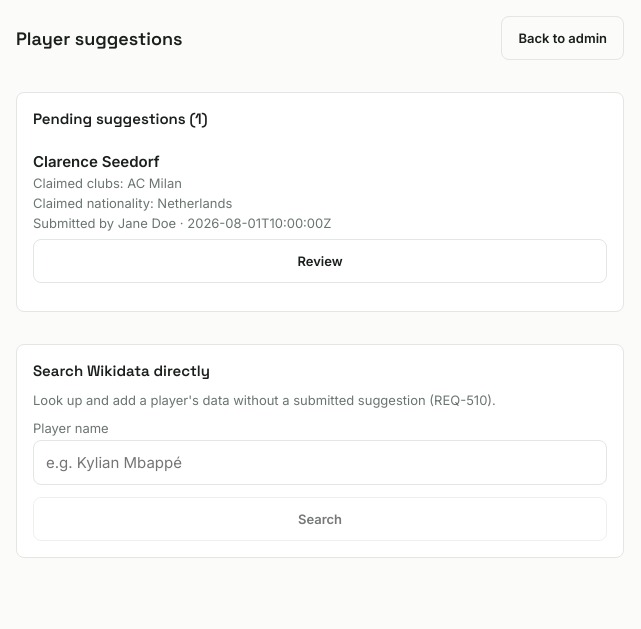
Test: SuggestionsScreen › REQ509: a 409 from lookup (already resolved) surfaces distinctly, with a refresh path back to the pending list
The image size is (641, 629).
Check: the text "Clarence Seedorf" is shown, box 33,152 -> 160,171
Click the button "Review". click: [320, 261]
box: 33,239 -> 607,283
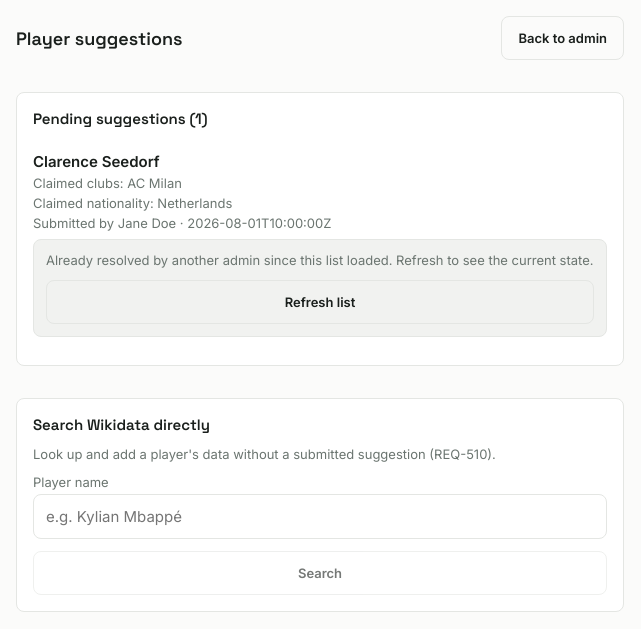
Check: the text "Already resolved by another admin" is shown, box 46,252 -> 594,268
Click the button "Refresh list". click: [320, 302]
box: 46,280 -> 594,324
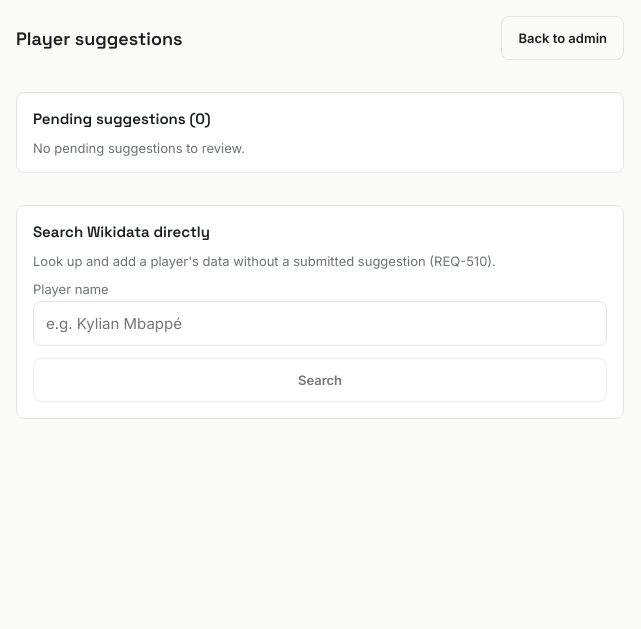
Check: the text "No pending suggestions to review." is shown, box 33,140 -> 245,156
